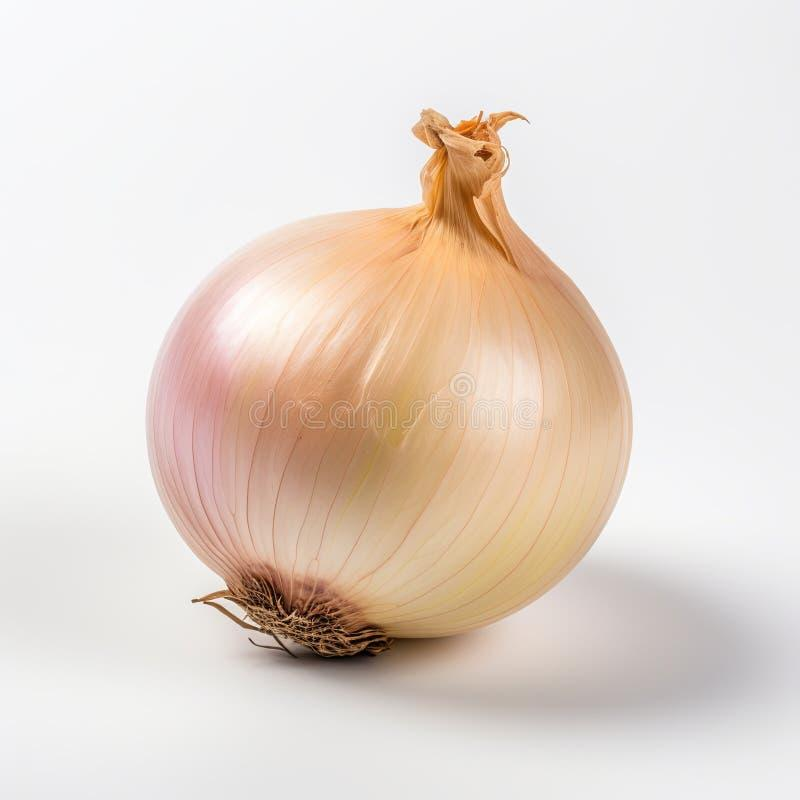Onion: (147, 111, 631, 655)
